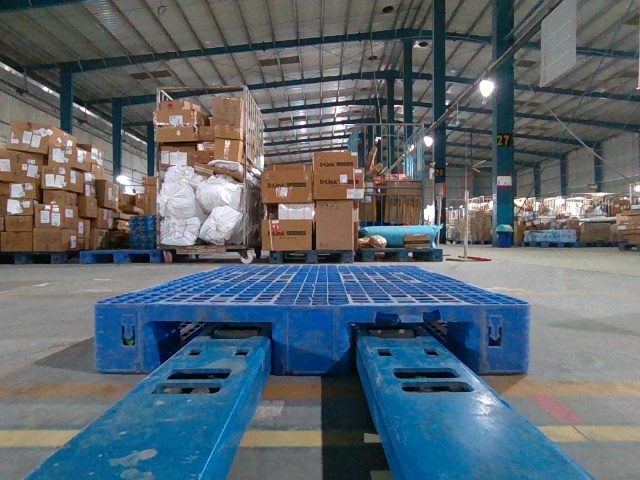pallet: (95, 303, 529, 371)
